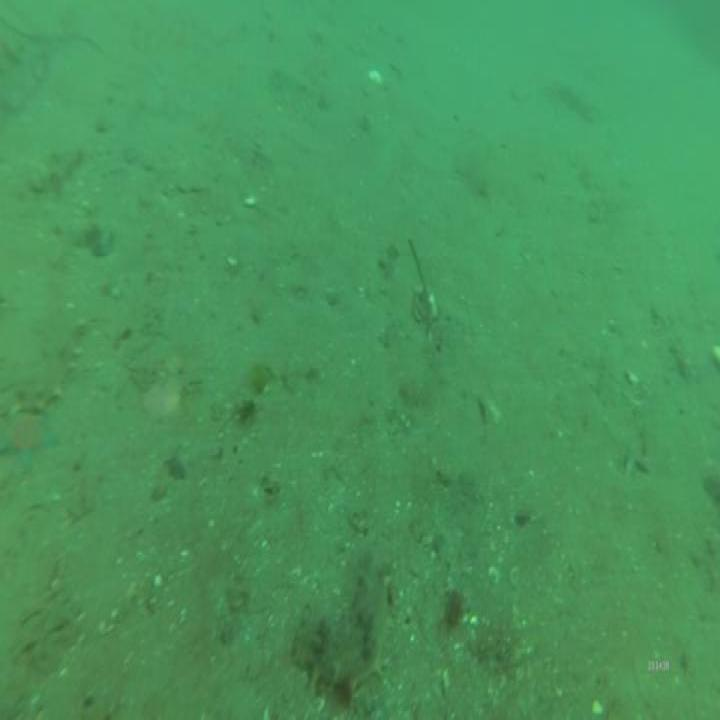holothurian: (291, 544, 387, 692)
starfish: (1, 404, 62, 471)
